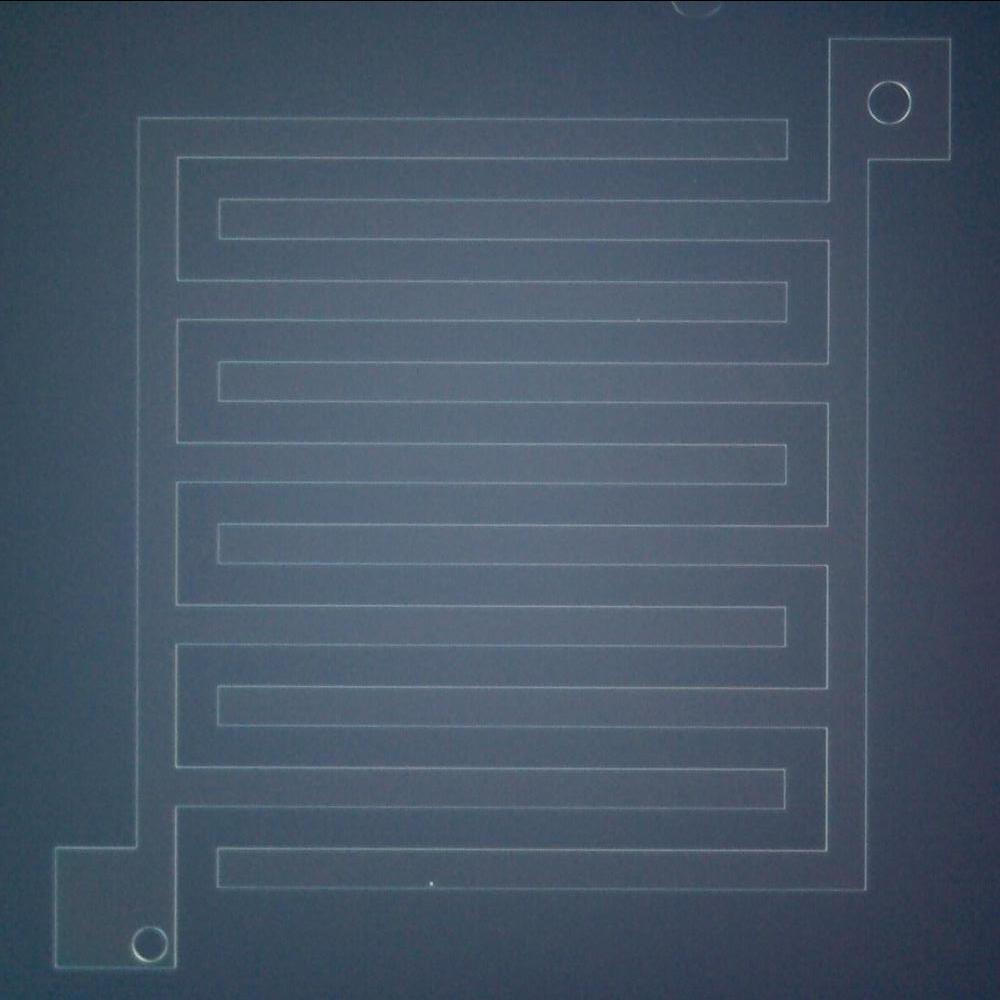circle: (864, 77, 916, 127), (130, 920, 171, 962)
